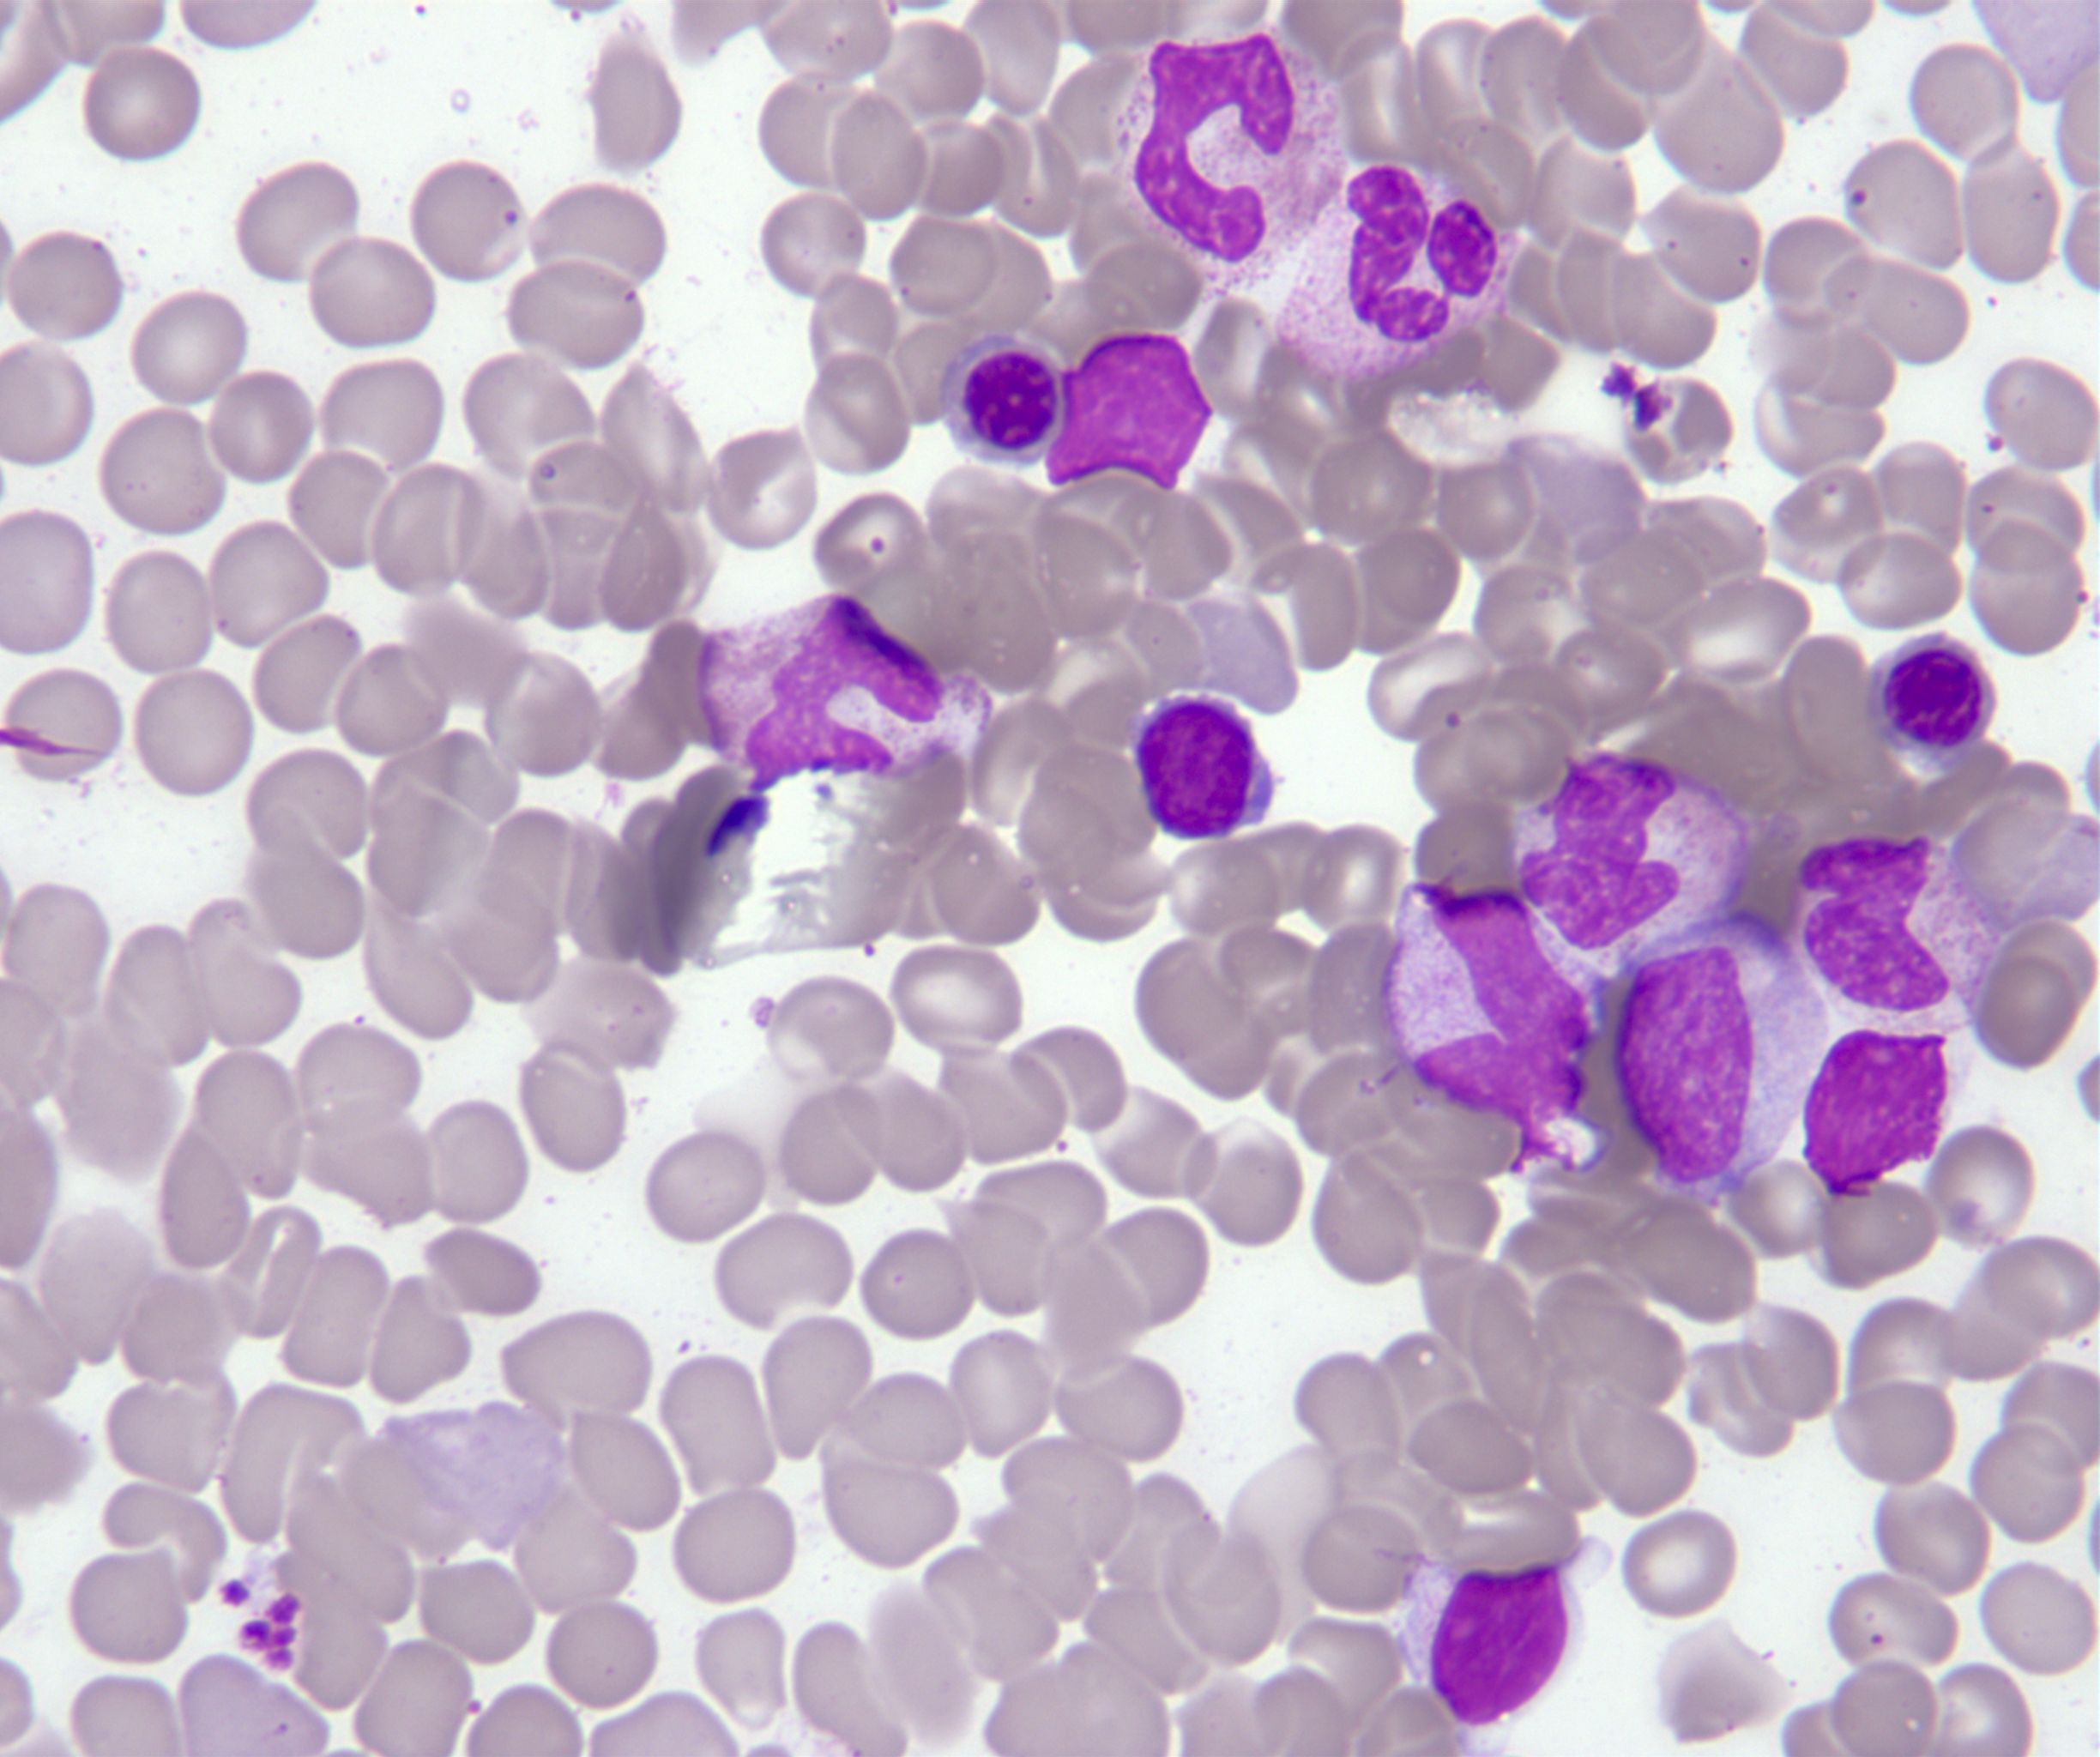24: (1858, 626, 1999, 775), (937, 330, 1067, 471)
3: (1608, 906, 1835, 1204)
32: (1127, 689, 1280, 844)
4: (1510, 749, 1755, 979), (1374, 878, 1599, 1120), (1783, 829, 2004, 1026)
5: (1109, 23, 1352, 290), (692, 593, 949, 801)
6: (1273, 148, 1523, 382)
x: (1395, 1535, 1615, 1736), (1795, 1024, 1960, 1202)
